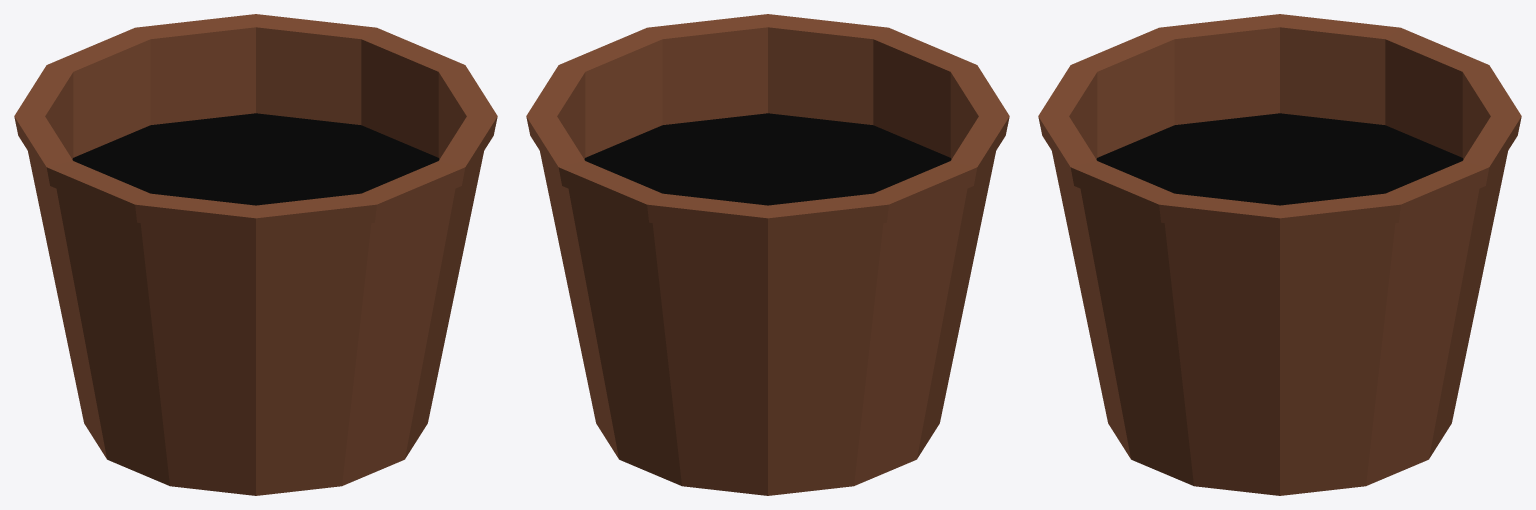
The model's file is FLOWERPOT.fbx.
3 views of the same model, side by side, from view 1: azimuth 30°, elevation 25°; view 2: azimuth 150°, elevation 25°; view 3: azimuth 270°, elevation 25° (orthographic).
Visible parts, largest first — view 1: FLOWERPOT; view 2: FLOWERPOT; view 3: FLOWERPOT.
Part boxes in pixels (x1,y1,x2,y2): FLOWERPOT: (14, 14, 497, 495); FLOWERPOT: (526, 14, 1009, 495); FLOWERPOT: (1038, 14, 1521, 495).
Bounding box in the file's own units: 34.16 × 23.94 × 34.16.
